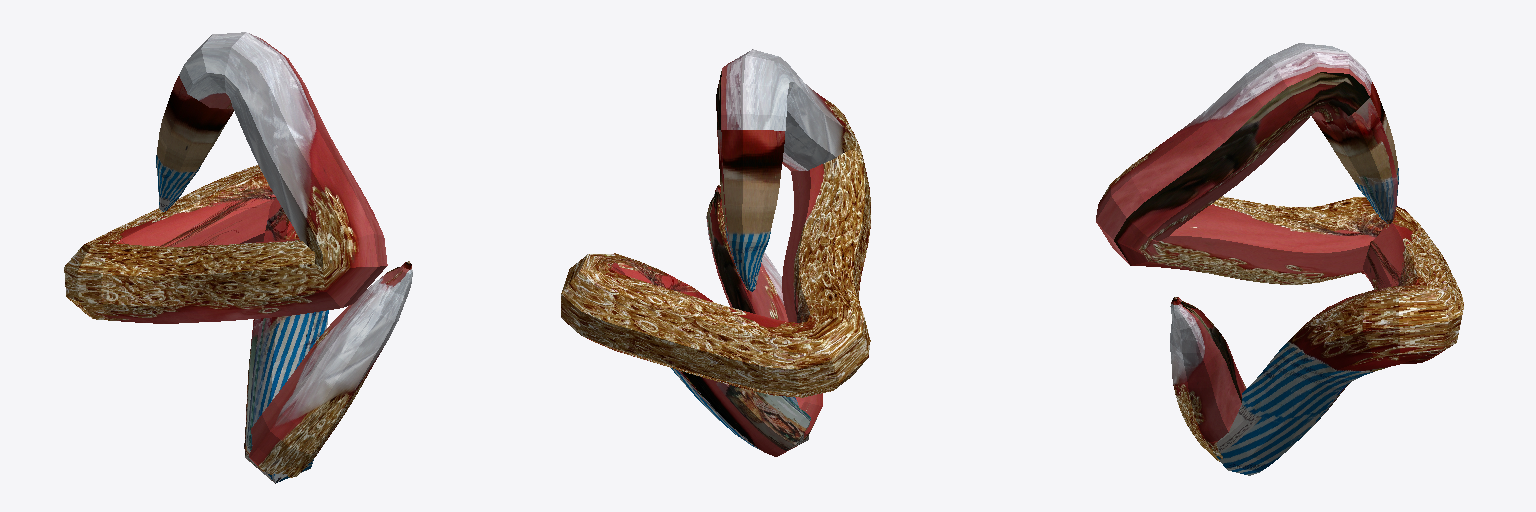
3 views of the same model, side by side, from view 1: azimuth 30°, elevation 25°; view 2: azimuth 150°, elevation 25°; view 3: azimuth 270°, elevation 25° (orthographic).
Visible parts, largest first — view 1: Toon_geo_Toon_mesh; view 2: Toon_geo_Toon_mesh; view 3: Toon_geo_Toon_mesh.
Boxes of the visible parts, x1,y1,x2,y2 form: Toon_geo_Toon_mesh: [64, 32, 412, 483]; Toon_geo_Toon_mesh: [561, 49, 870, 456]; Toon_geo_Toon_mesh: [1096, 43, 1463, 475].
Bounding box in the file's own units: 1 × 1.46 × 1.16.
1 materials, 1 textured.